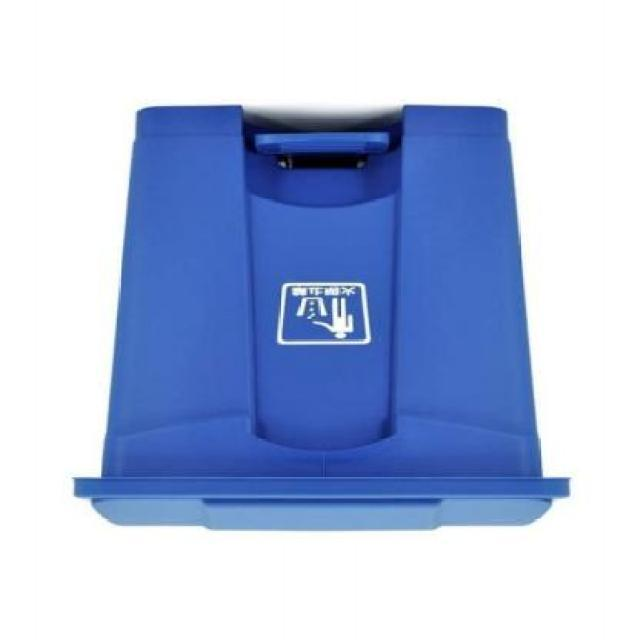garbage container: (68, 84, 605, 546)
